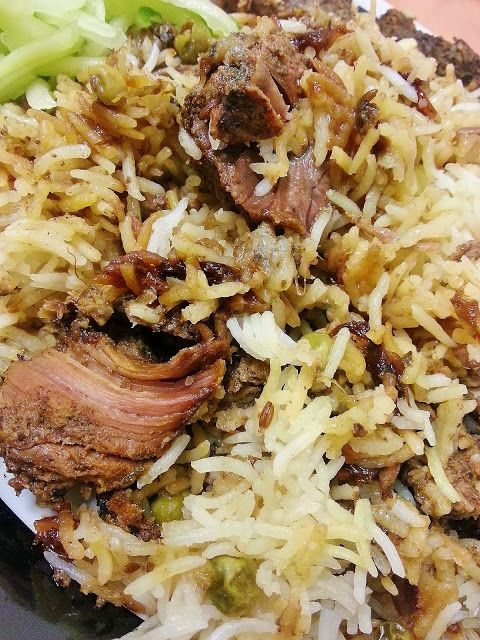Biryani: (4, 15, 475, 632)
